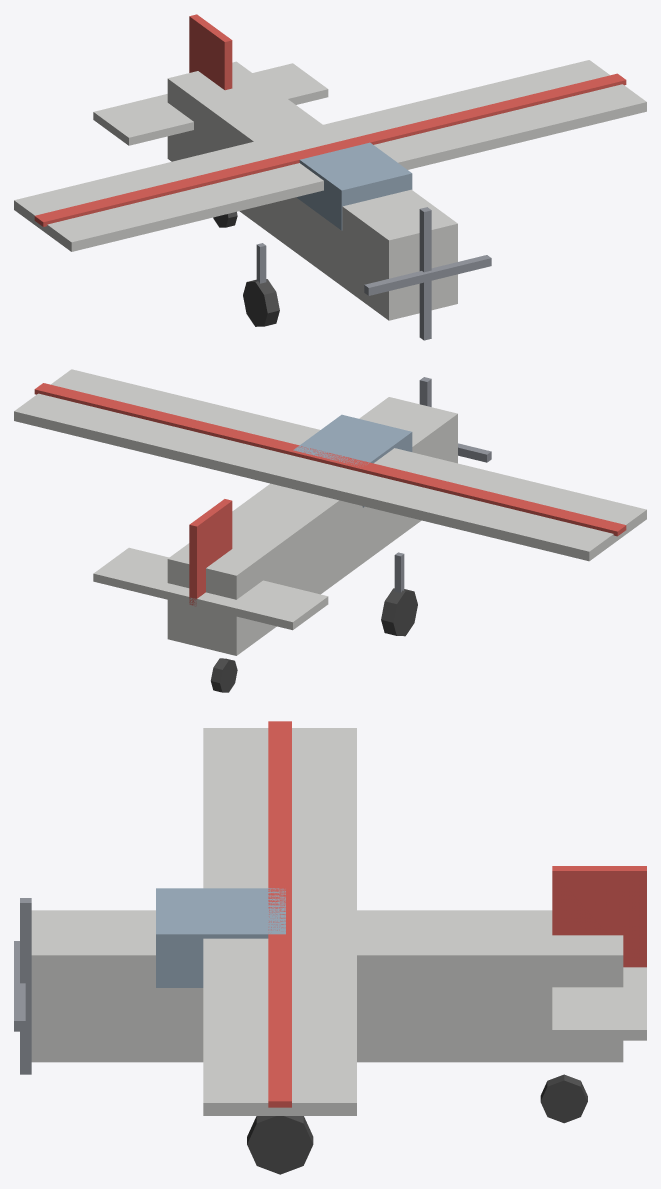
3 views of the same model, one above another, from view 1: azimuth 30°, elevation 25°; view 2: azimuth 150°, elevation 25°; view 3: azimuth 270°, elevation 25° (orthographic). The views are drawn at different scales.
Visible parts, largest first — view 1: plane; view 2: plane; view 3: plane.
Part boxes in pixels (<box>): plane: <box>14,14,646,340</box>; plane: <box>14,369,646,692</box>; plane: <box>14,721,646,1174</box>.
Bounding box in the file's own units: 7.6 × 2.4 × 5.35.
